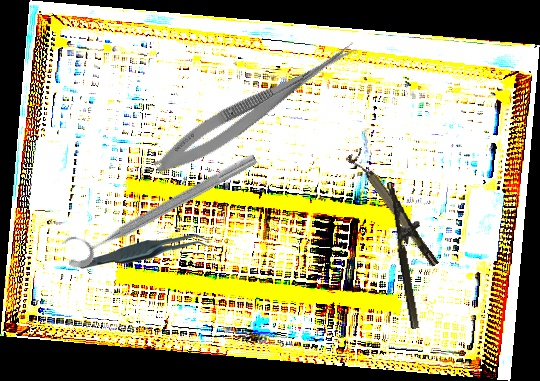Fixation Ring: (56, 138, 262, 273), (345, 147, 442, 272)
Micro Scissor: (148, 29, 363, 184)
Needle Holder: (386, 178, 440, 330)
Tissue Forceps: (77, 231, 210, 272)
